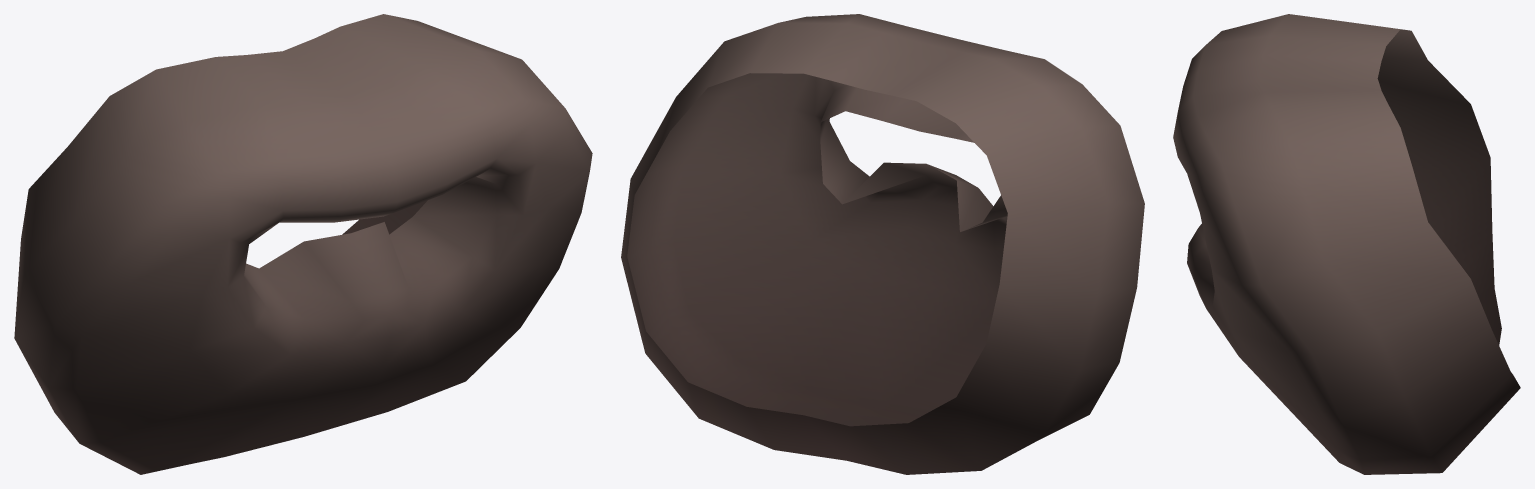
File: Beard_01.glb
3 views of the same model, side by side, from view 1: azimuth 30°, elevation 25°; view 2: azimuth 150°, elevation 25°; view 3: azimuth 270°, elevation 25° (orthographic). The views are drawn at different scales.
Visible parts, largest first — view 1: Beard_01; view 2: Beard_01; view 3: Beard_01.
Part boxes in pixels (x1=…): Beard_01: x1=14, y1=14, x2=592, y2=474; Beard_01: x1=621, y1=14, x2=1144, y2=474; Beard_01: x1=1173, y1=14, x2=1520, y2=474.
Size of the model in its own units: 0.2993 by 0.2191 by 0.192.
1 material, 1 textured.
